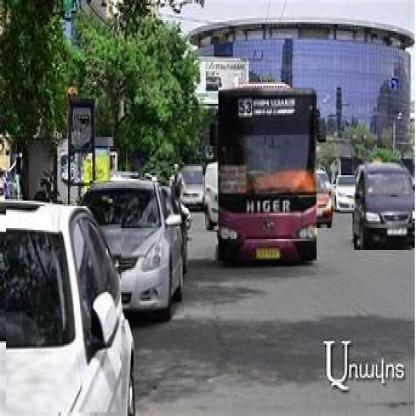bus: (219, 89, 319, 264)
car: (7, 207, 124, 415), (91, 182, 187, 322), (355, 160, 415, 253), (205, 158, 221, 233), (176, 166, 205, 206), (315, 172, 333, 231), (337, 178, 358, 214)
